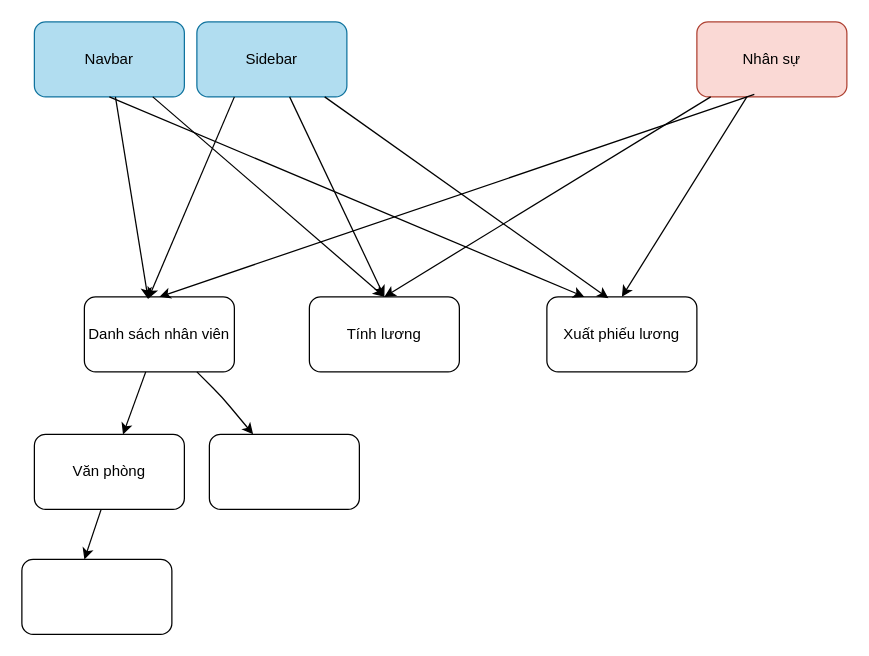
The diagram is 869 pixels wide and 656 high, and some of its shapes have lost their labels. Each missing label, with the box of its shape:
(CARD) nhân viên: (21, 558, 172, 634)
(POPUP) Tạo nhân viên: (208, 433, 359, 509)
